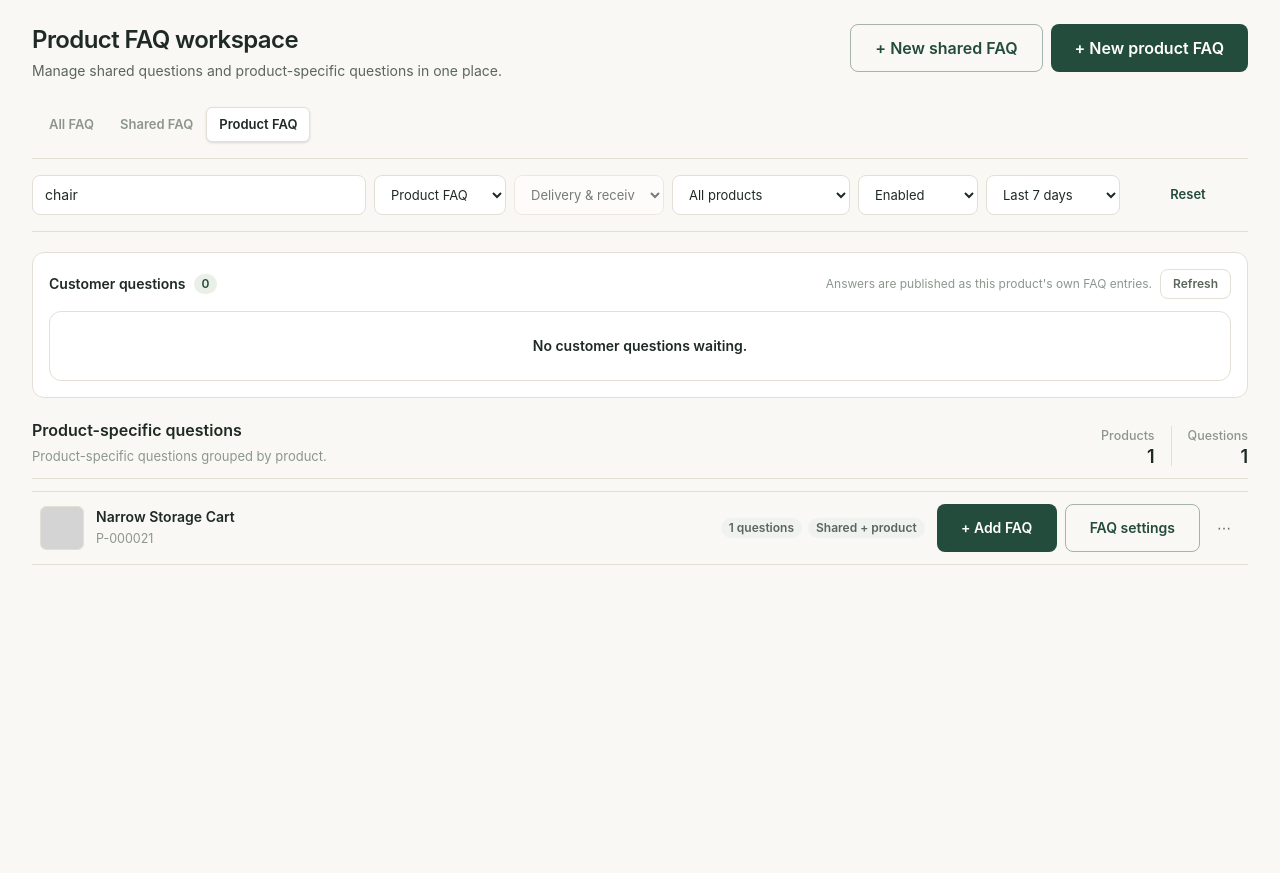
Scenario: FaqWorkspace › resets every URL-backed FAQ filter from the compact toolbar
Expected: the text "Narrow Storage Cart" is shown, left=96, top=508, right=235, bottom=525
Click the button "Reset".
click(1188, 194)  # box left=1128, top=170, right=1248, bottom=218
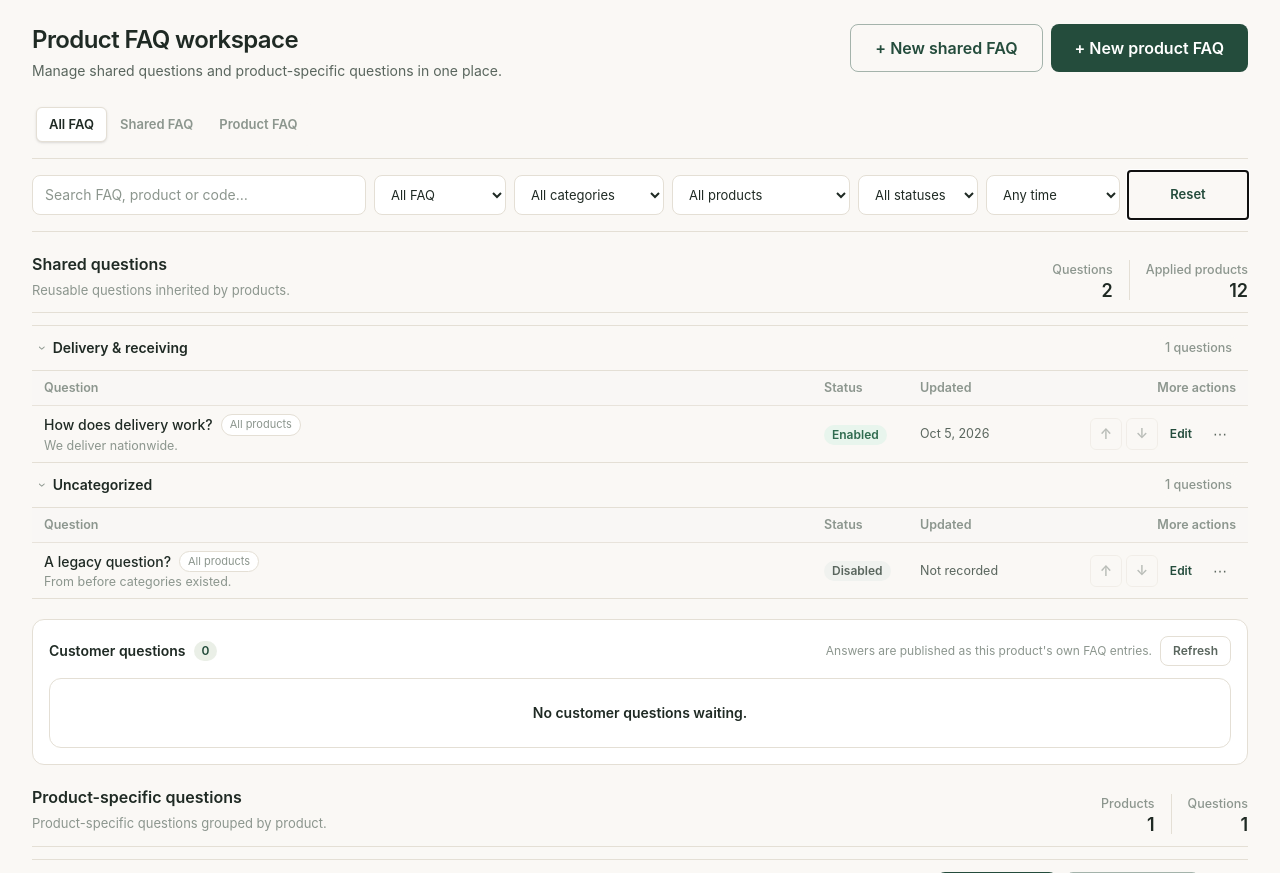
Expected: the search field with placeholder "Search FAQ, product or code…" is empty, left=32, top=174, right=366, bottom=214
